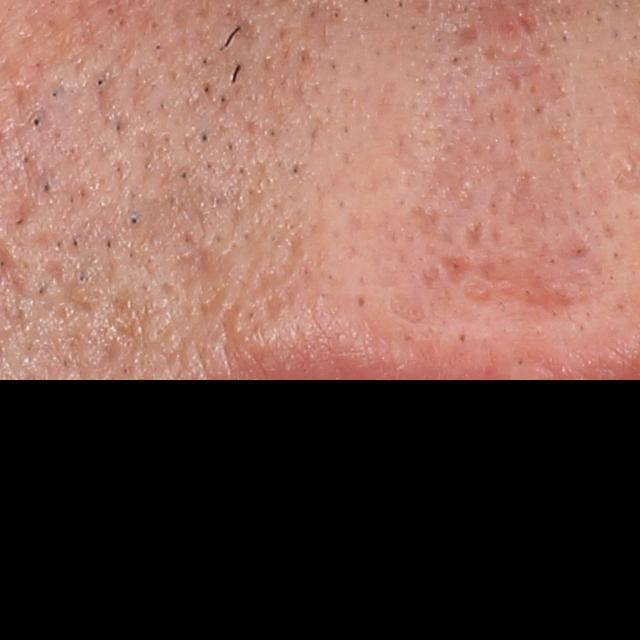atrophic_scar: (474, 254, 580, 319), (250, 232, 306, 300), (442, 253, 476, 291), (441, 23, 477, 55), (464, 214, 491, 254)
